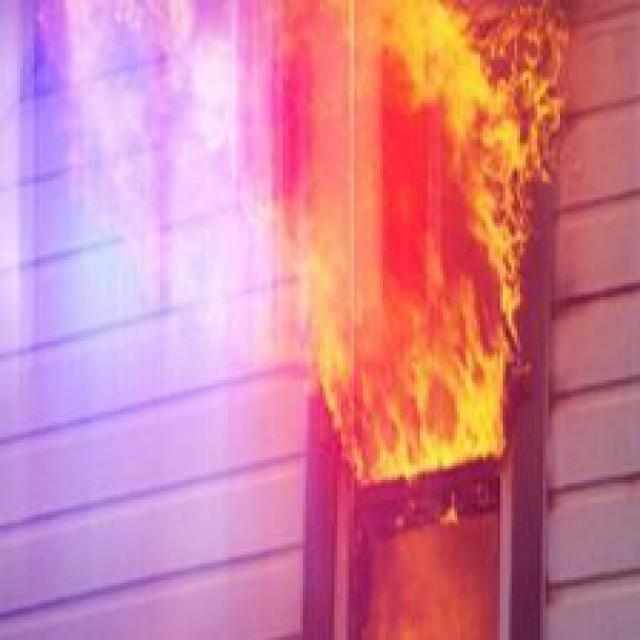fire: (260, 3, 574, 477)
